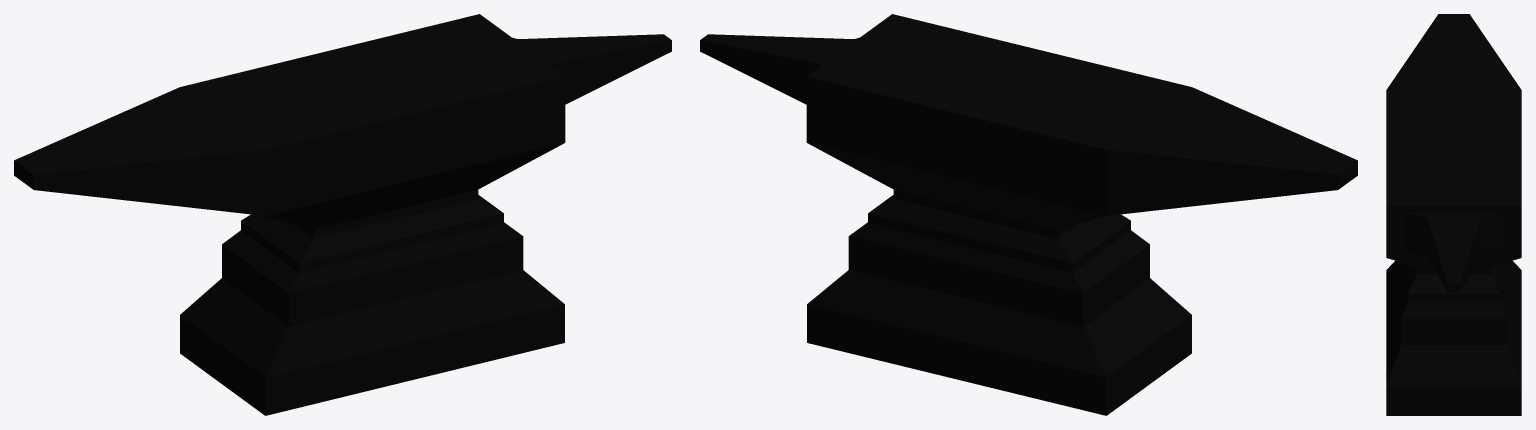
The model's file is runic_anvil.obj.
The picture shows the model from 3 angles, left to right: view 1: azimuth 30°, elevation 25°; view 2: azimuth 150°, elevation 25°; view 3: azimuth 270°, elevation 25°; orthographic projection. The views are drawn at different scales.
Visible parts, largest first — view 1: Anvil_Cube.003; view 2: Anvil_Cube.003; view 3: Anvil_Cube.003.
Part boxes in pixels (x1,y1,x2,y2): Anvil_Cube.003: (14, 14, 671, 415); Anvil_Cube.003: (700, 14, 1357, 415); Anvil_Cube.003: (1386, 14, 1521, 415).
Bounding box in the file's own units: 0.8361 × 0.3303 × 0.1924.
